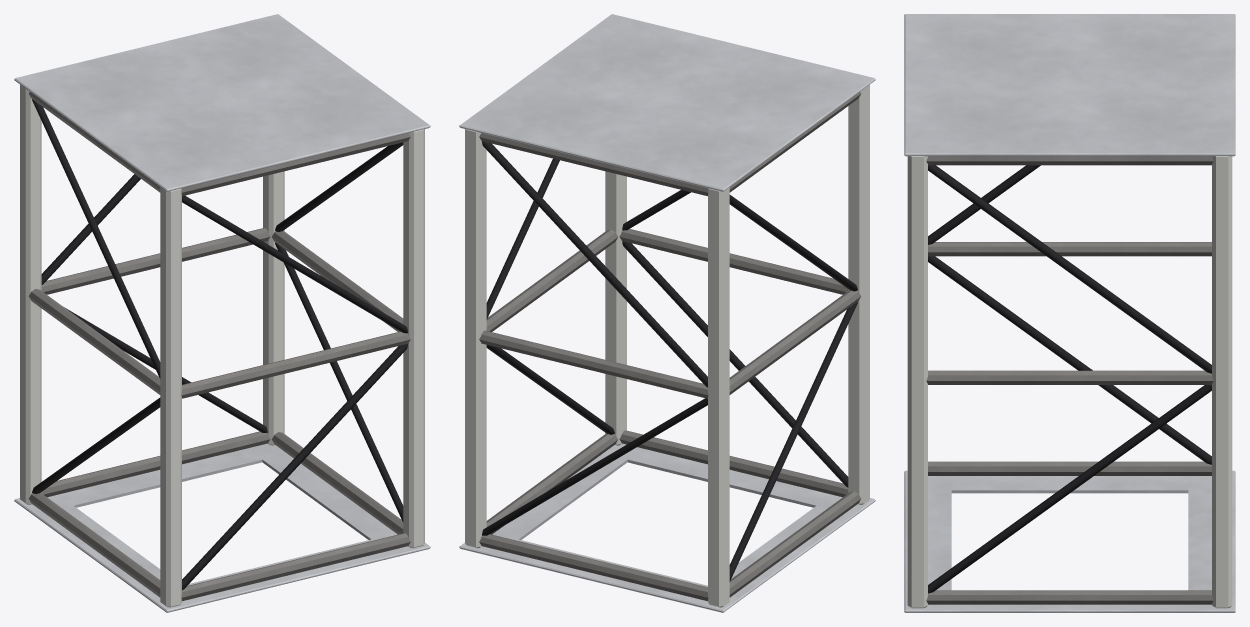
The model's file is ax_gear_08_square_truss_l.glb.
3 renders of one model, left to right at view 1: azimuth 30°, elevation 25°; view 2: azimuth 150°, elevation 25°; view 3: azimuth 270°, elevation 25°, orthographic. The views are drawn at different scales.
Visible parts, largest first — view 1: end_frames, longerons, battens, diagonals; view 2: end_frames, longerons, battens, diagonals; view 3: end_frames, battens, longerons, diagonals.
Part boxes in pixels (bbox=[...]): end_frames: bbox=[14, 14, 430, 612]; longerons: bbox=[20, 84, 424, 607]; battens: bbox=[28, 92, 410, 601]; diagonals: bbox=[32, 99, 407, 590]; end_frames: bbox=[459, 14, 875, 612]; longerons: bbox=[465, 84, 869, 607]; battens: bbox=[479, 92, 861, 601]; diagonals: bbox=[482, 141, 857, 581]; end_frames: bbox=[904, 14, 1235, 612]; battens: bbox=[926, 156, 1213, 604]; longerons: bbox=[907, 156, 1232, 608]; diagonals: bbox=[928, 165, 1211, 593].
Size of the model in its own units: 2.94 by 4.5 by 2.94.
Materials: 4 (2 with a texture image).
